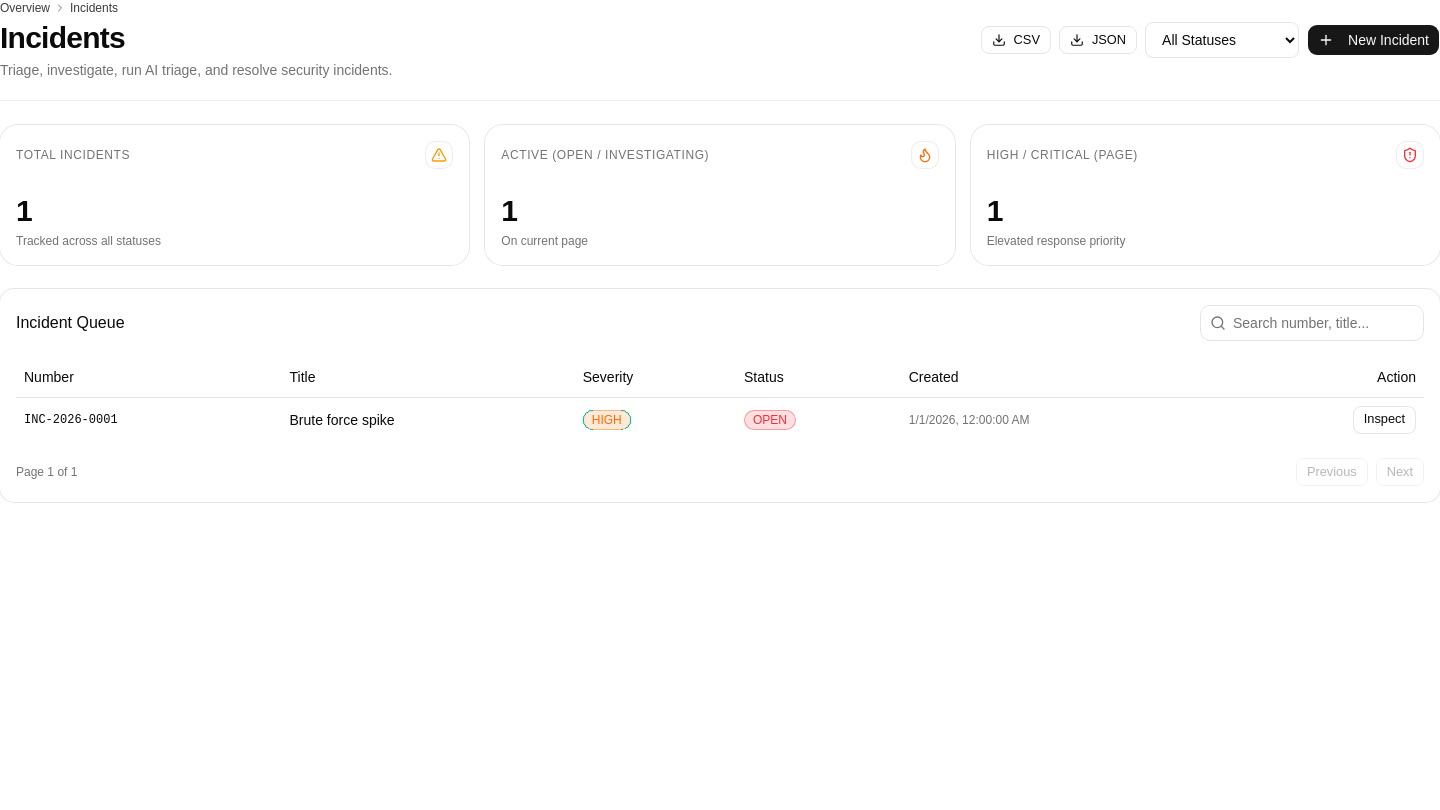
IncidentsPage › opens incident details and runs AI triage
Expected: the text "INC-2026-0001" is shown, 16,397 -> 282,442
Click the button "Inspect": (1384, 420) 1353,406 -> 1416,434
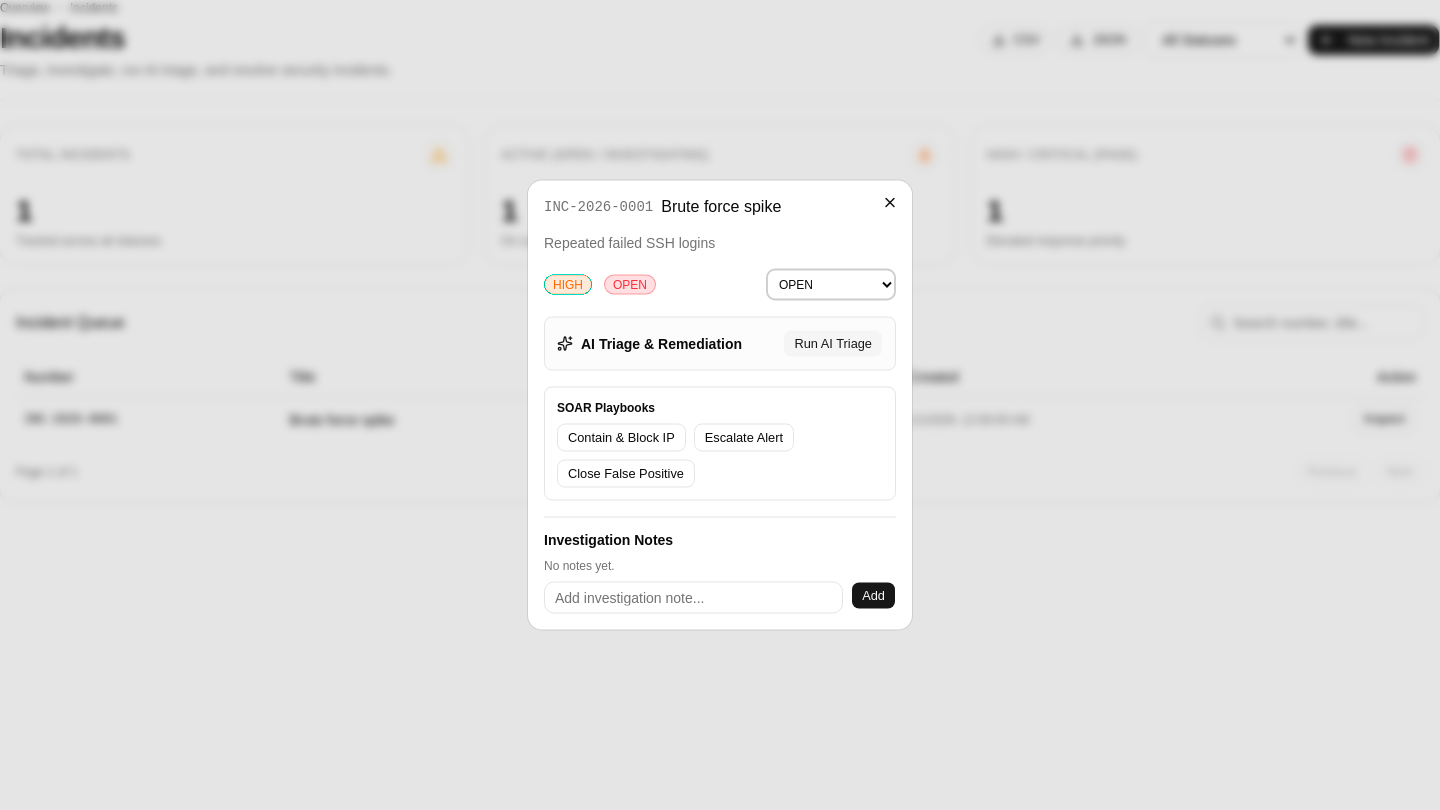
Click the button "Run AI Triage": (833, 344) 784,330 -> 883,358
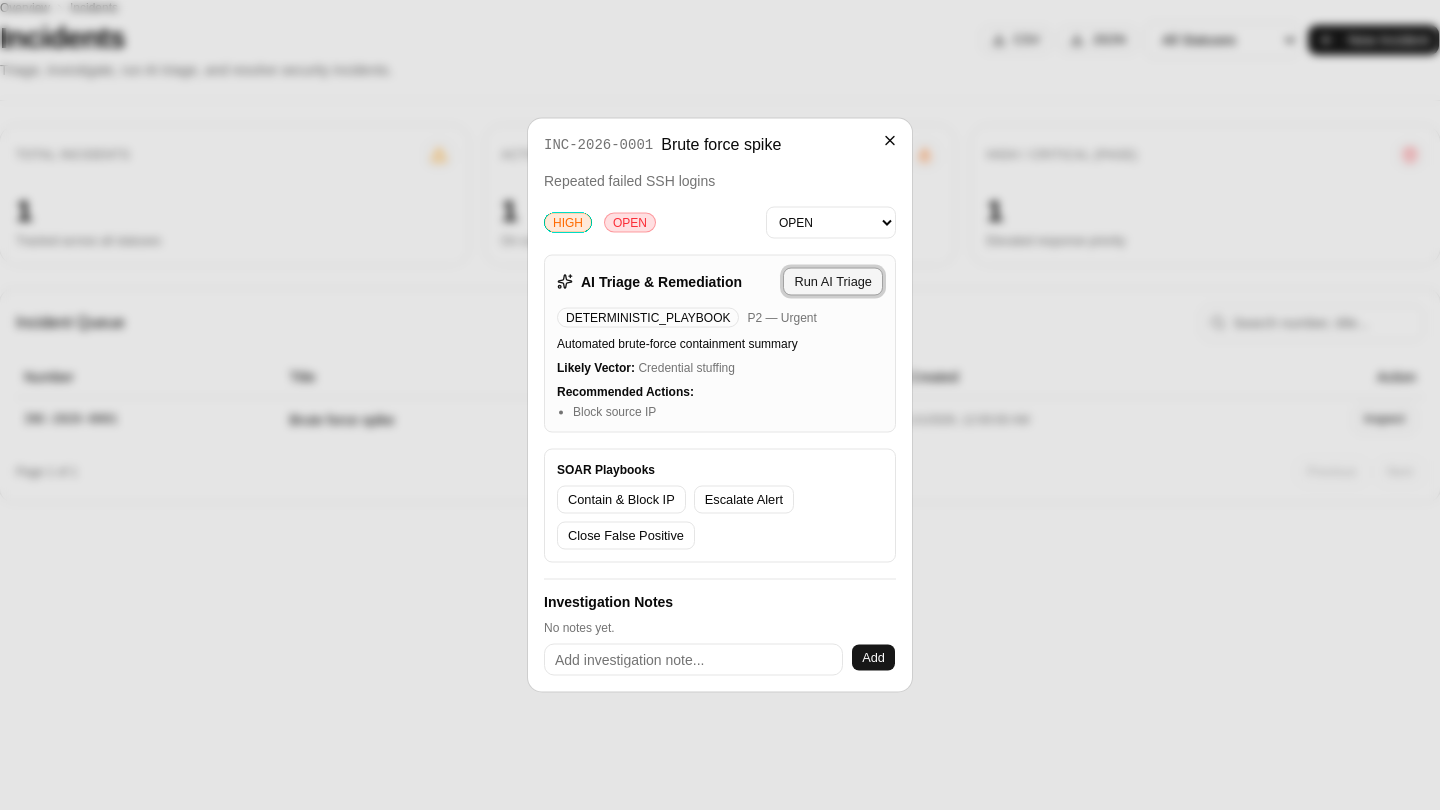
Expected: the text "Automated brute-force containment summary" is shown, 557,336 -> 798,350
